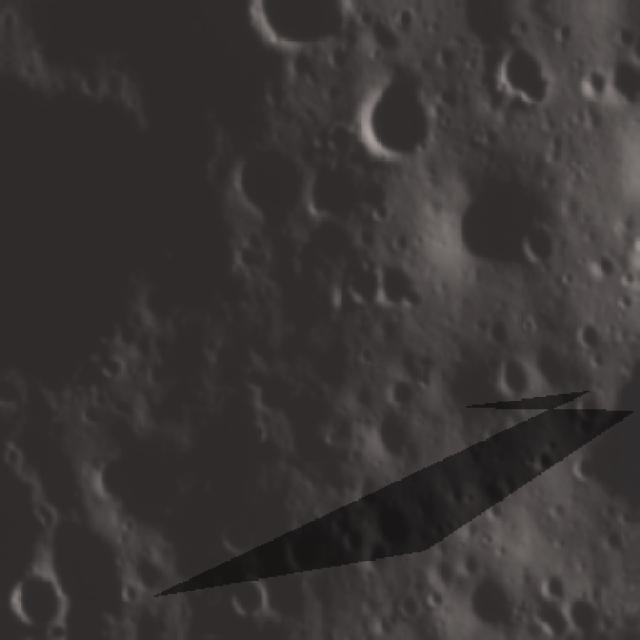crater: (438, 167, 564, 276), (348, 64, 444, 165), (222, 137, 313, 232), (244, 0, 359, 62), (0, 562, 78, 631), (491, 36, 555, 112), (368, 247, 427, 321), (458, 570, 522, 638), (530, 328, 587, 395), (486, 344, 542, 404), (365, 497, 421, 557), (360, 406, 414, 466), (336, 255, 387, 318), (279, 520, 336, 575), (219, 572, 272, 626), (522, 434, 564, 488), (381, 373, 425, 418), (89, 347, 134, 388), (564, 446, 604, 488), (572, 62, 611, 105), (0, 365, 28, 417), (585, 247, 618, 287)
